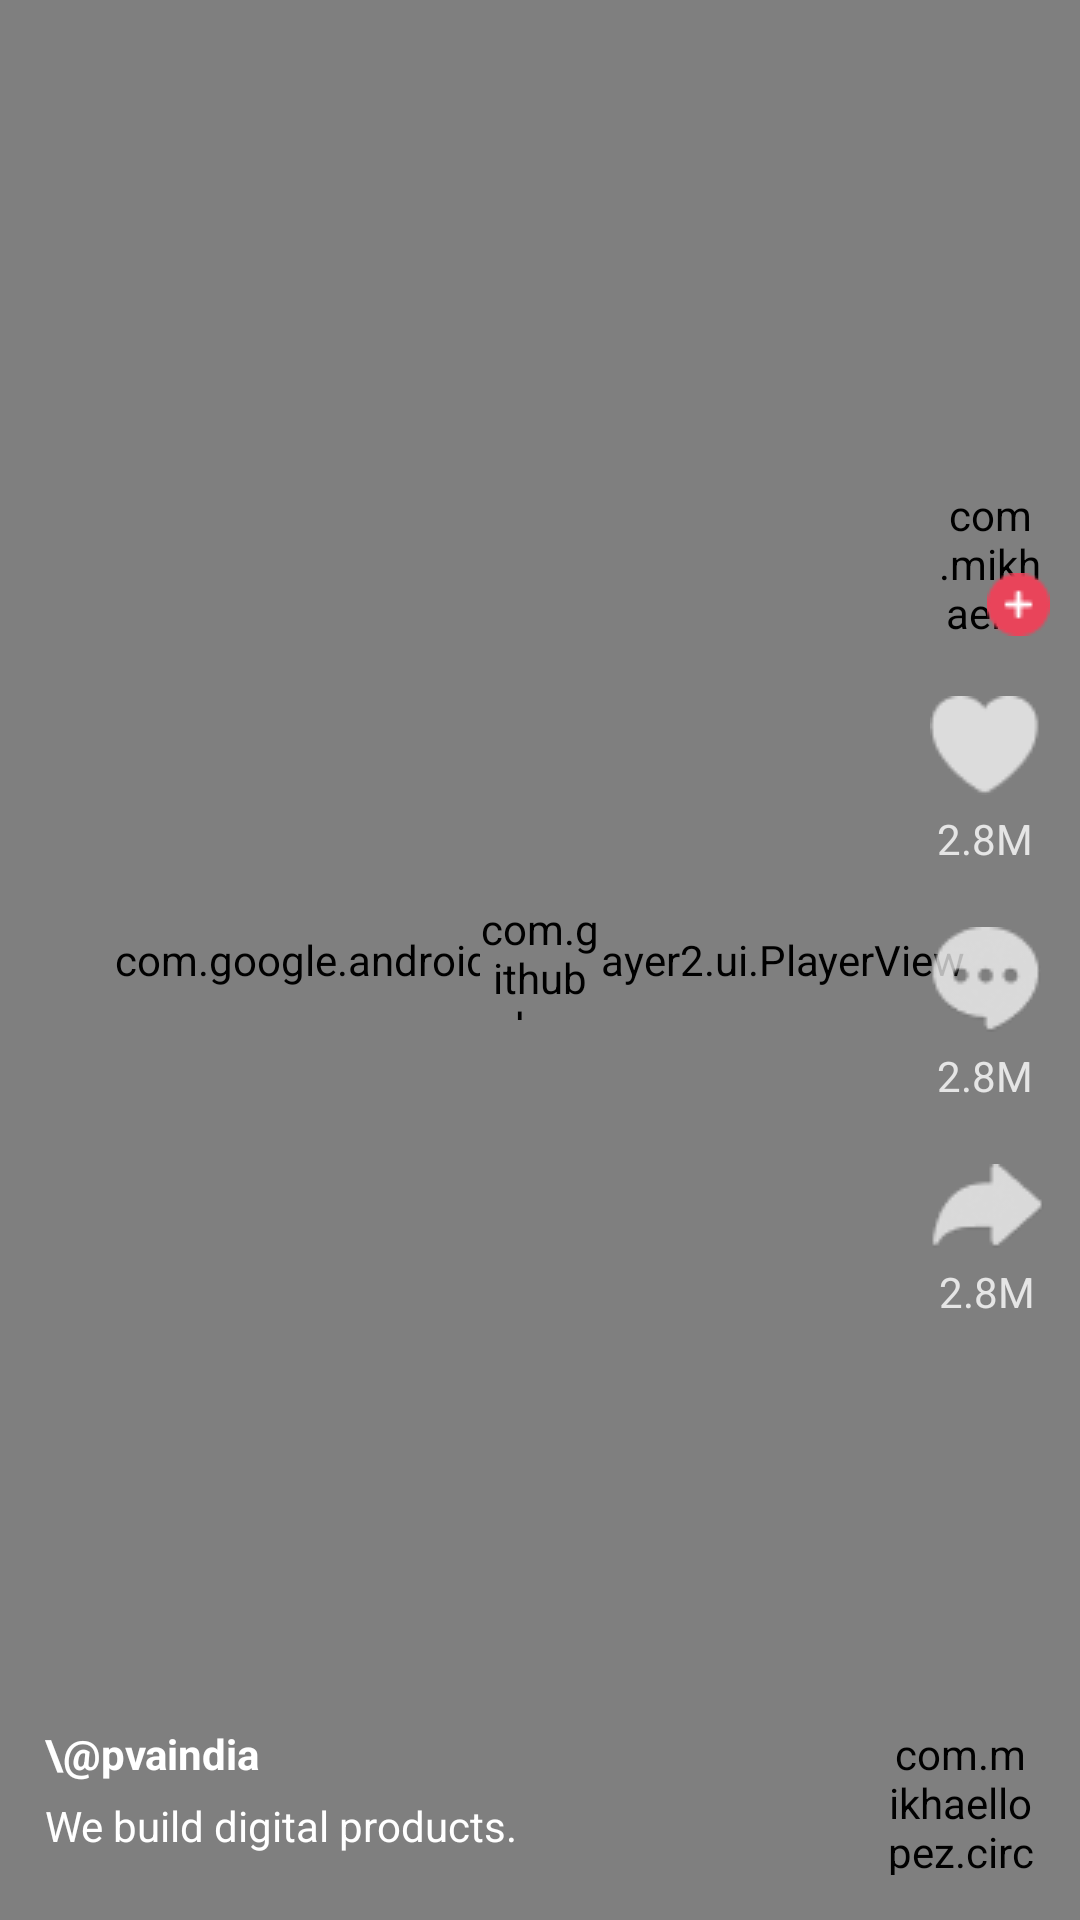

Where icons sit on this 1080*1920 app screen, as (x1, y1, x2, y2):
comment side nav: (932, 927, 1039, 1029)
follow side nav: (987, 573, 1050, 636)
like side nav: (930, 696, 1038, 793)
share side nav: (932, 1164, 1042, 1245)
